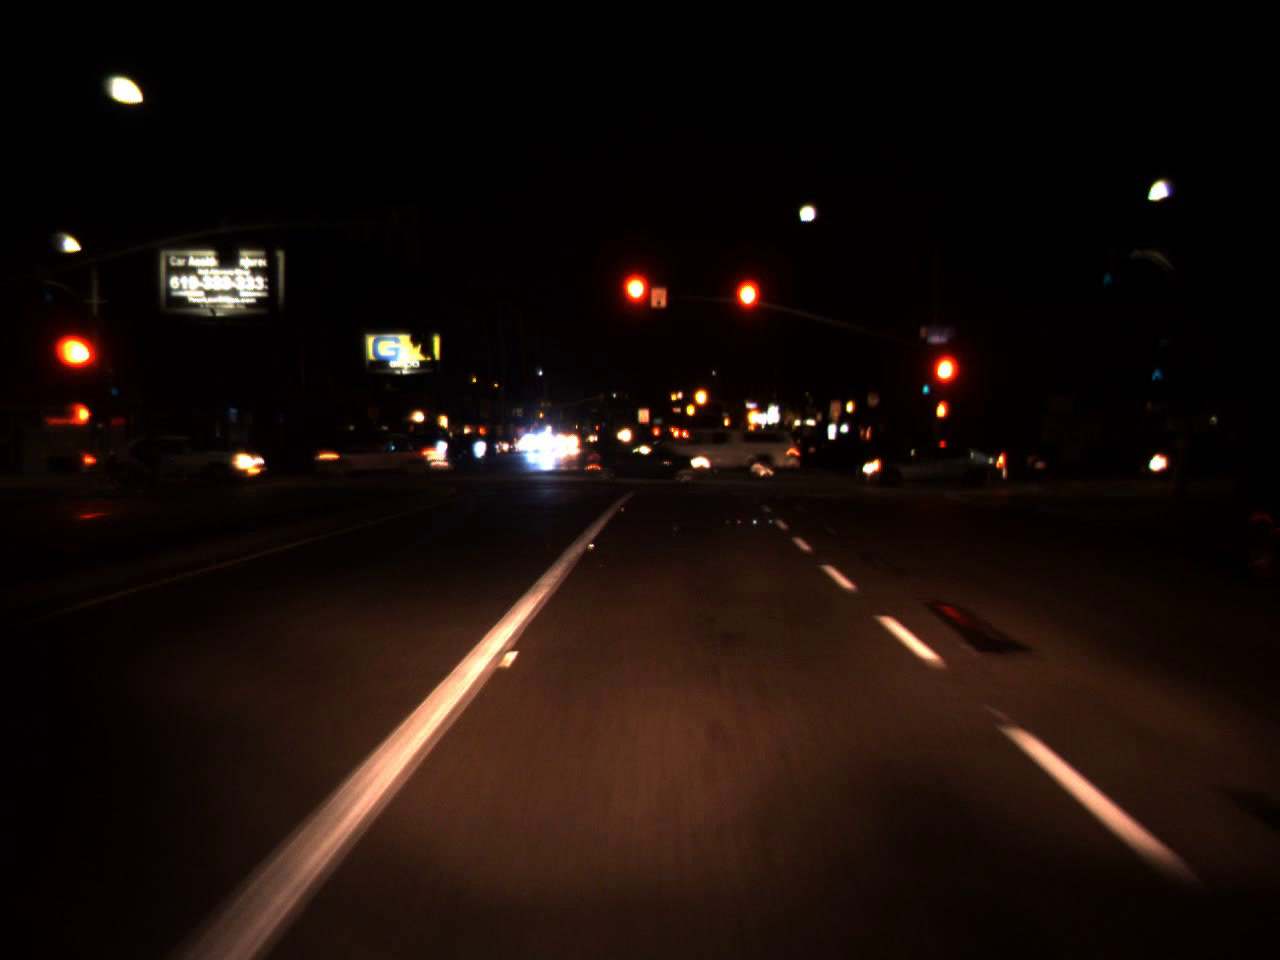stop: (56, 333, 99, 400), (618, 268, 654, 340), (928, 349, 964, 421), (731, 275, 764, 345)
warning: (692, 378, 710, 415), (745, 398, 760, 433), (685, 398, 695, 419), (722, 413, 731, 428)
